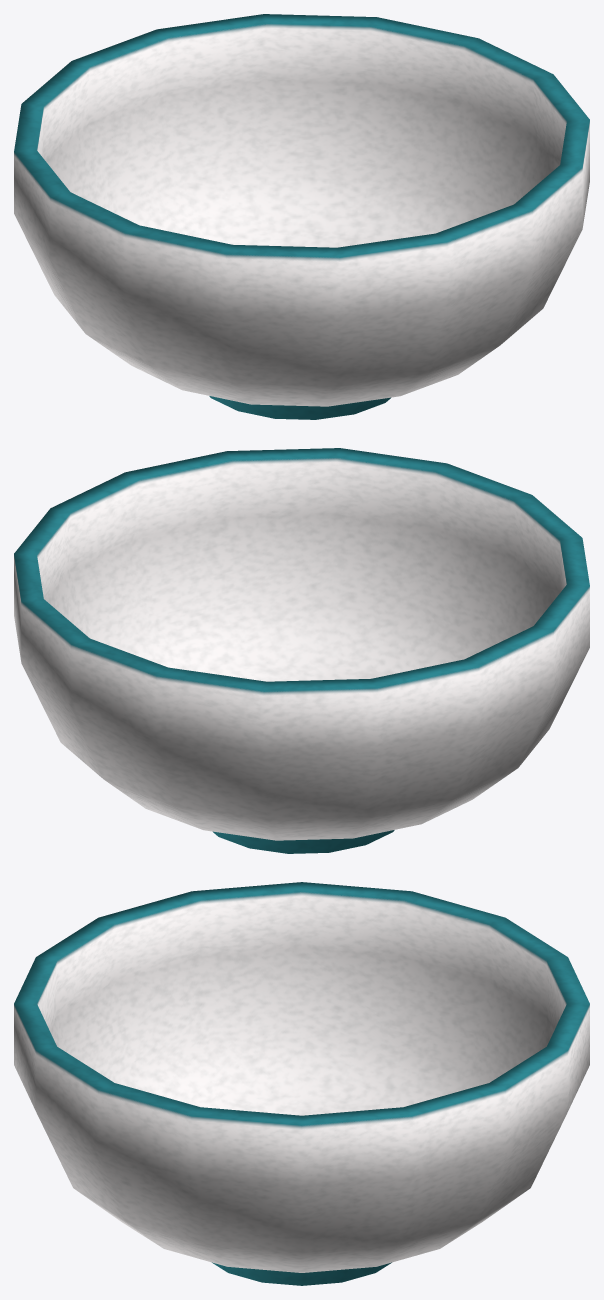
File: gyudon_utuwa.glb
3 views of the same model, one above another, from view 1: azimuth 30°, elevation 25°; view 2: azimuth 150°, elevation 25°; view 3: azimuth 270°, elevation 25° (orthographic).
Parts seen in each view (by area): view 1: utuwa; view 2: utuwa; view 3: utuwa.
Boxes of the visible parts, x1,y1,x2,y2 form: utuwa: (14,14,589,419); utuwa: (14,448,589,853); utuwa: (14,882,589,1285).
Bounding box in the file's own units: 2 × 0.9122 × 2.
1 material, 1 textured.
